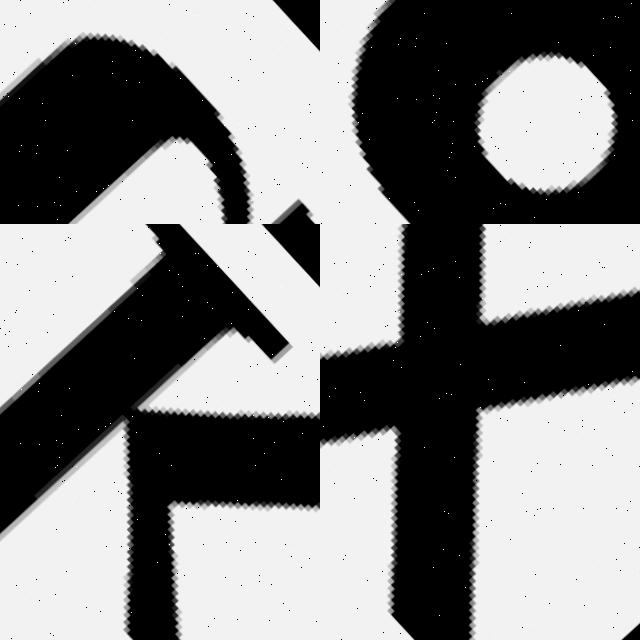D: (320, 0, 640, 224)
K: (0, 224, 320, 640)
U: (0, 0, 320, 224)
X: (320, 224, 640, 640)
